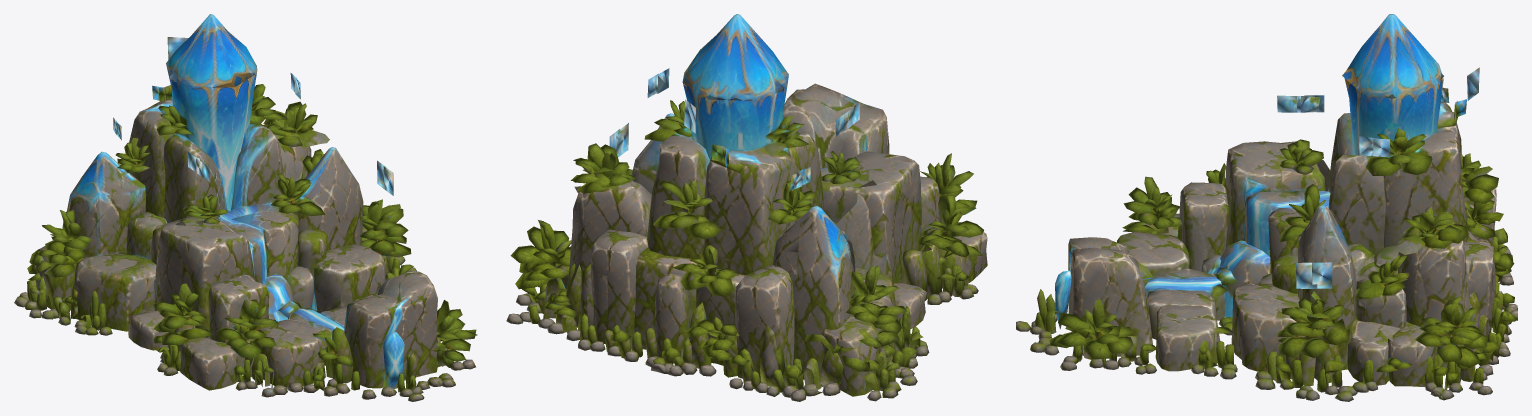
The model's file is cristal_sanctuario.glb.
3 renders of one model, left to right at view 1: azimuth 30°, elevation 25°; view 2: azimuth 150°, elevation 25°; view 3: azimuth 270°, elevation 25°, orthographic. The views are drawn at different scales.
Size of the model in its own units: 0.8547 by 0.6557 by 1.
Materials: 1 (1 with a texture image).
